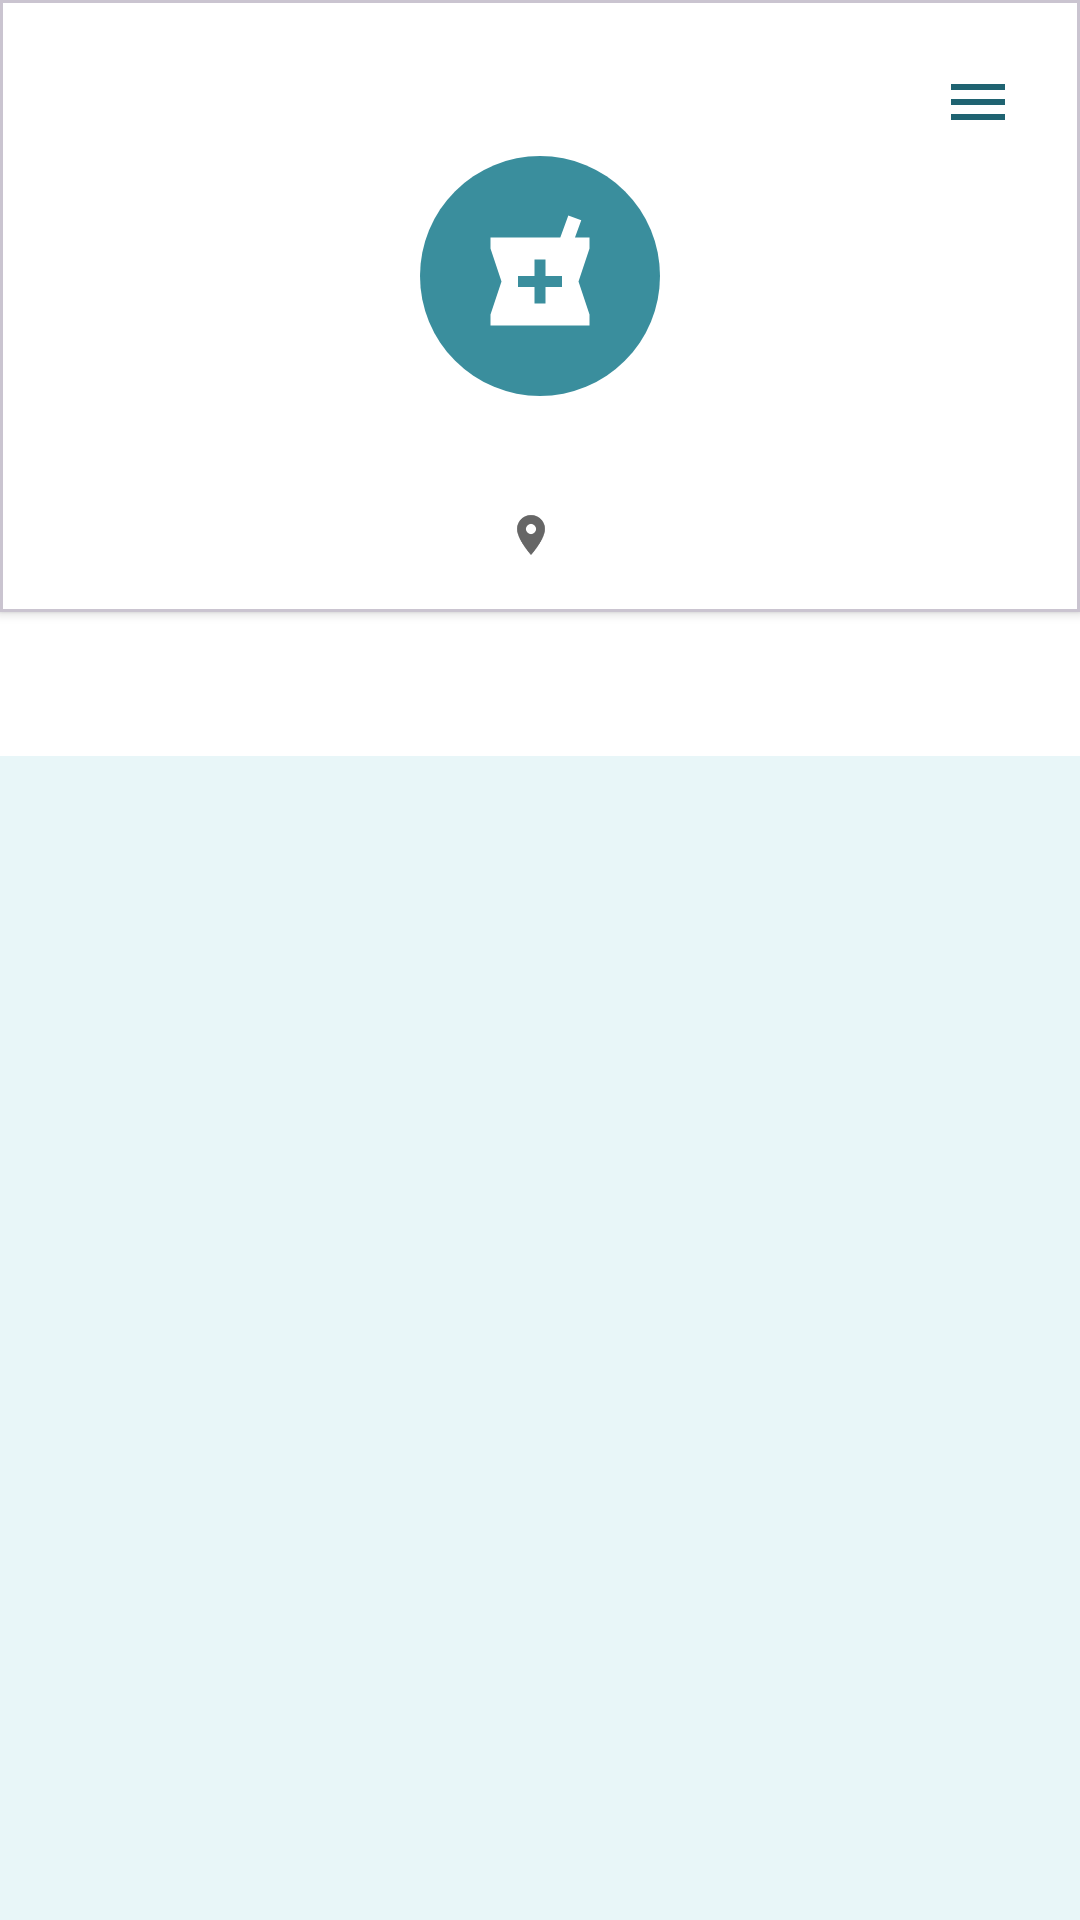

Icons on this 1080px×1920px Android screen, each with its box as Rect(x1, y1, x2, y2):
local pharmacy: Rect(420, 156, 660, 396)
